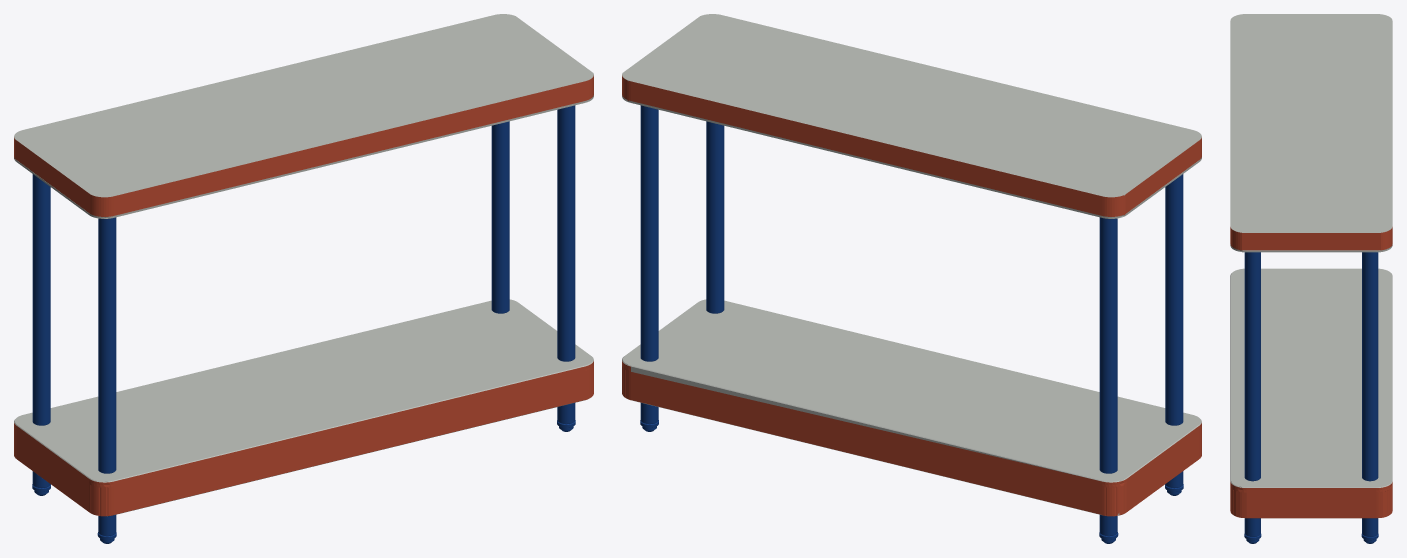
The model's file is shelf_v2.dae.
3 views of the same model, side by side, from view 1: azimuth 30°, elevation 25°; view 2: azimuth 150°, elevation 25°; view 3: azimuth 270°, elevation 25° (orthographic). The views are drawn at different scales.
Visible parts, largest first — view 1: shelf.001, shelf.002, shelf; view 2: shelf.001, shelf.002, shelf; view 3: shelf.001, shelf, shelf.002.
Part boxes in pixels (x1,y1,x2,y2): shelf.001: [14, 14, 593, 516]; shelf.002: [14, 75, 593, 516]; shelf: [32, 105, 575, 543]; shelf.001: [622, 14, 1201, 515]; shelf.002: [622, 75, 1201, 516]; shelf: [640, 105, 1183, 543]; shelf.001: [1230, 14, 1392, 487]; shelf: [1244, 252, 1378, 543]; shelf.002: [1230, 227, 1392, 518].
Bounding box in the file's own units: 0.8 × 0.25 × 0.5429.
